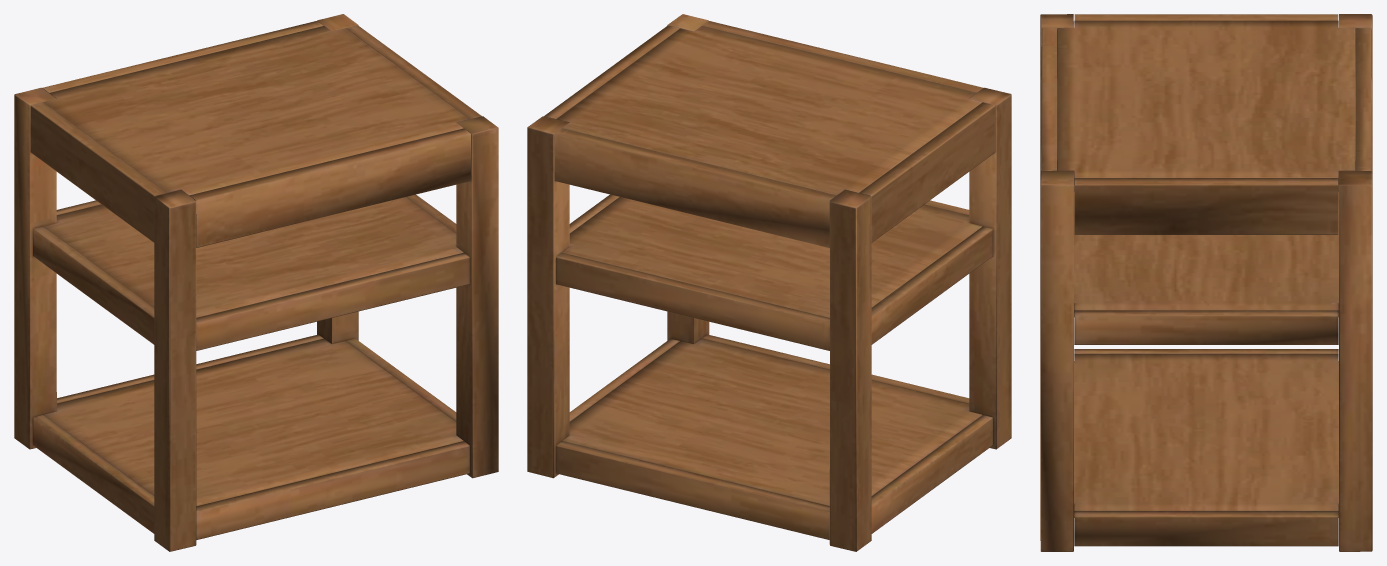
The model's file is side-table.glb.
3 renders of one model, left to right at view 1: azimuth 30°, elevation 25°; view 2: azimuth 150°, elevation 25°; view 3: azimuth 270°, elevation 25°, orthographic. The views are drawn at different scales.
Visible parts, largest first — view 1: side_table_01; view 2: side_table_01; view 3: side_table_01.
Part boxes in pixels (x1=…): side_table_01: x1=14, y1=14, x2=498, y2=551; side_table_01: x1=527, y1=14, x2=1011, y2=551; side_table_01: x1=1040, y1=14, x2=1372, y2=551.
Bounding box in the file's own units: 0.55 × 0.5507 × 0.45.
1 material, 1 textured.
